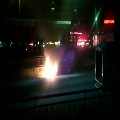fire: (42, 57, 57, 79)
